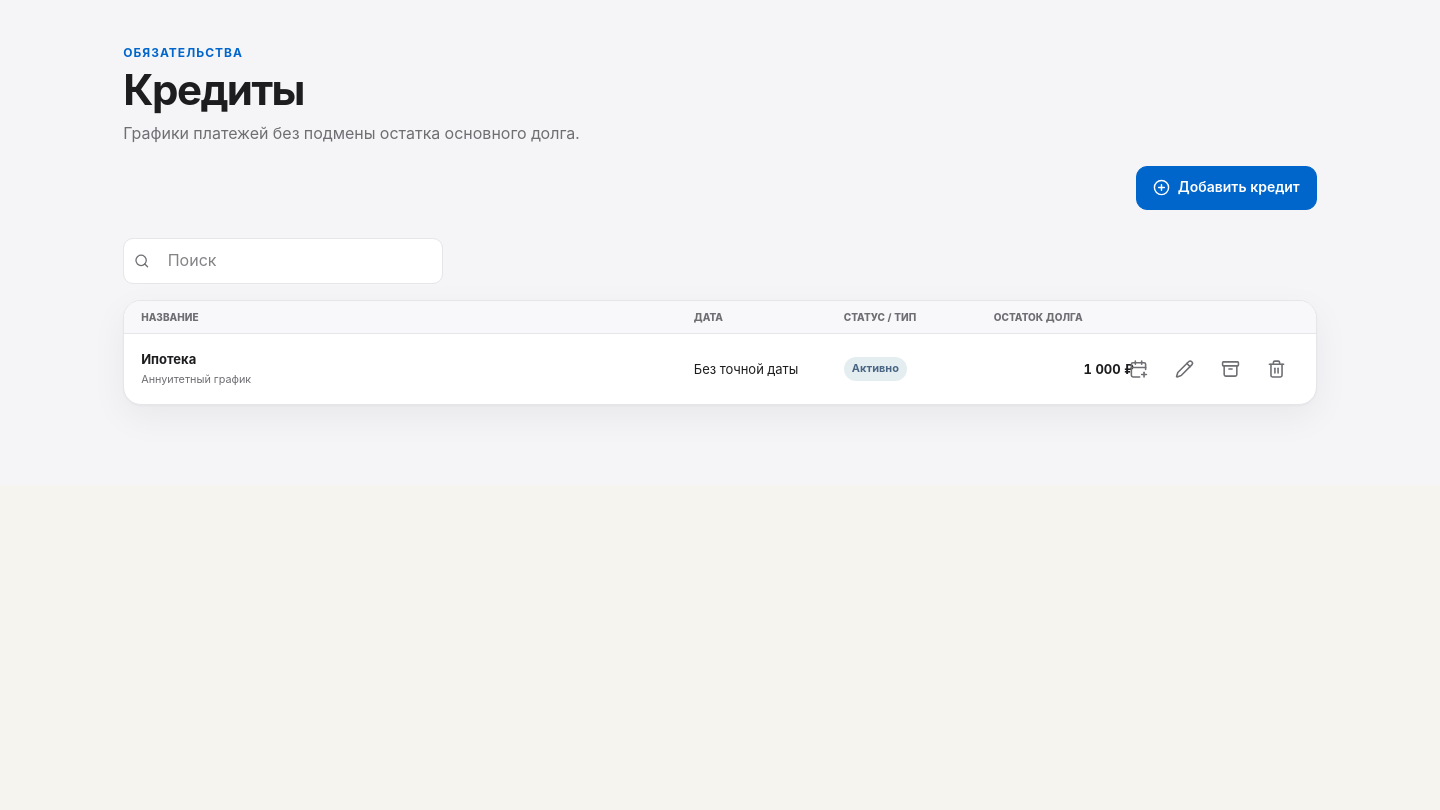
Test: loan schedule integration › shows the annuity breakdown and previews shorter-term prepayment
Check: the text "Ипотека" is shown, box [141,351,196,367]
Click the button named "График кредита Ипотека" at (1139, 369), box [1117,347,1161,391]
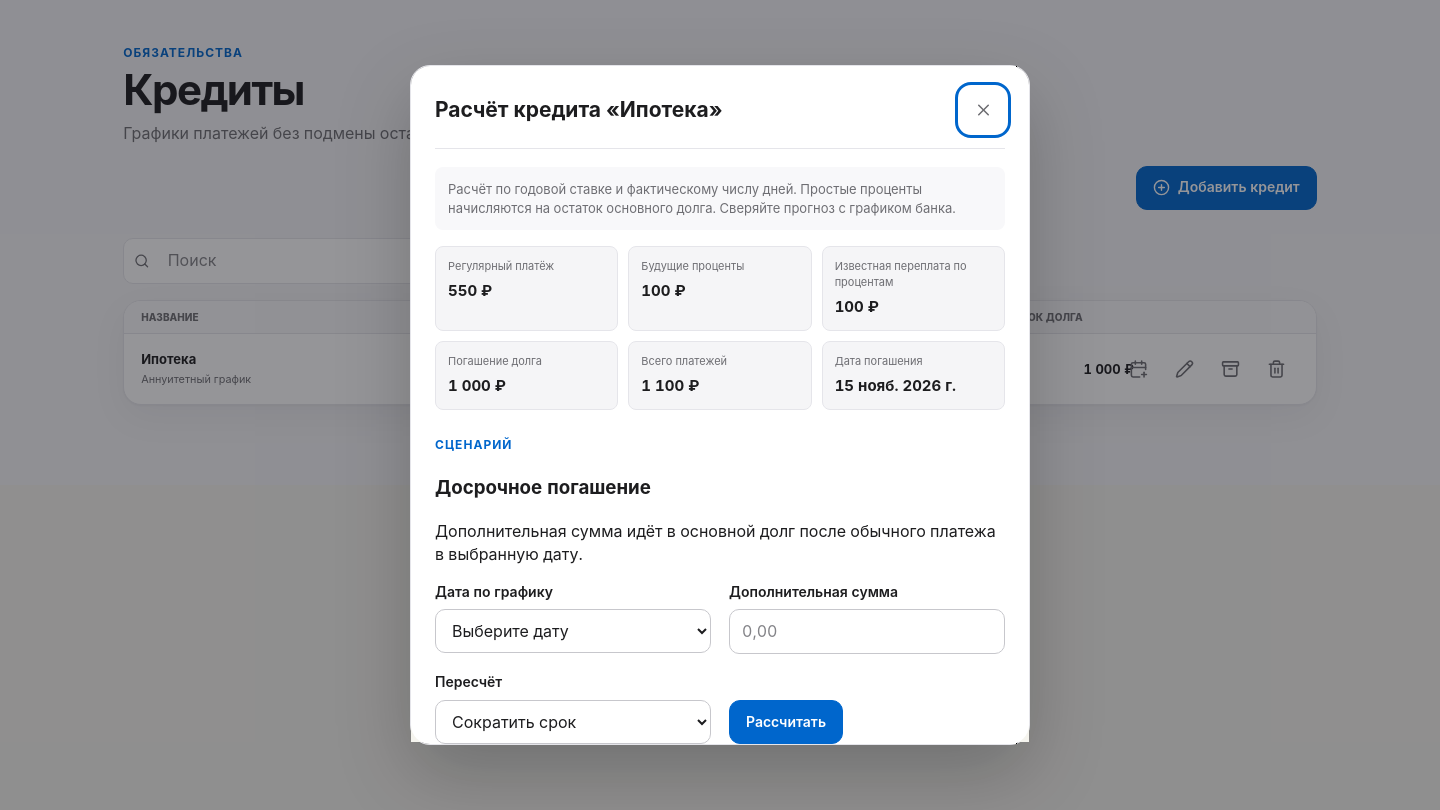
Check: the text "Будущие проценты" is shown, box [641,260,744,274]
Select "15 окт. 2026 г. · осталось 510 ₽" in the dropdown labelled "Дата по графику" at (573, 631), box [435,609,711,653]
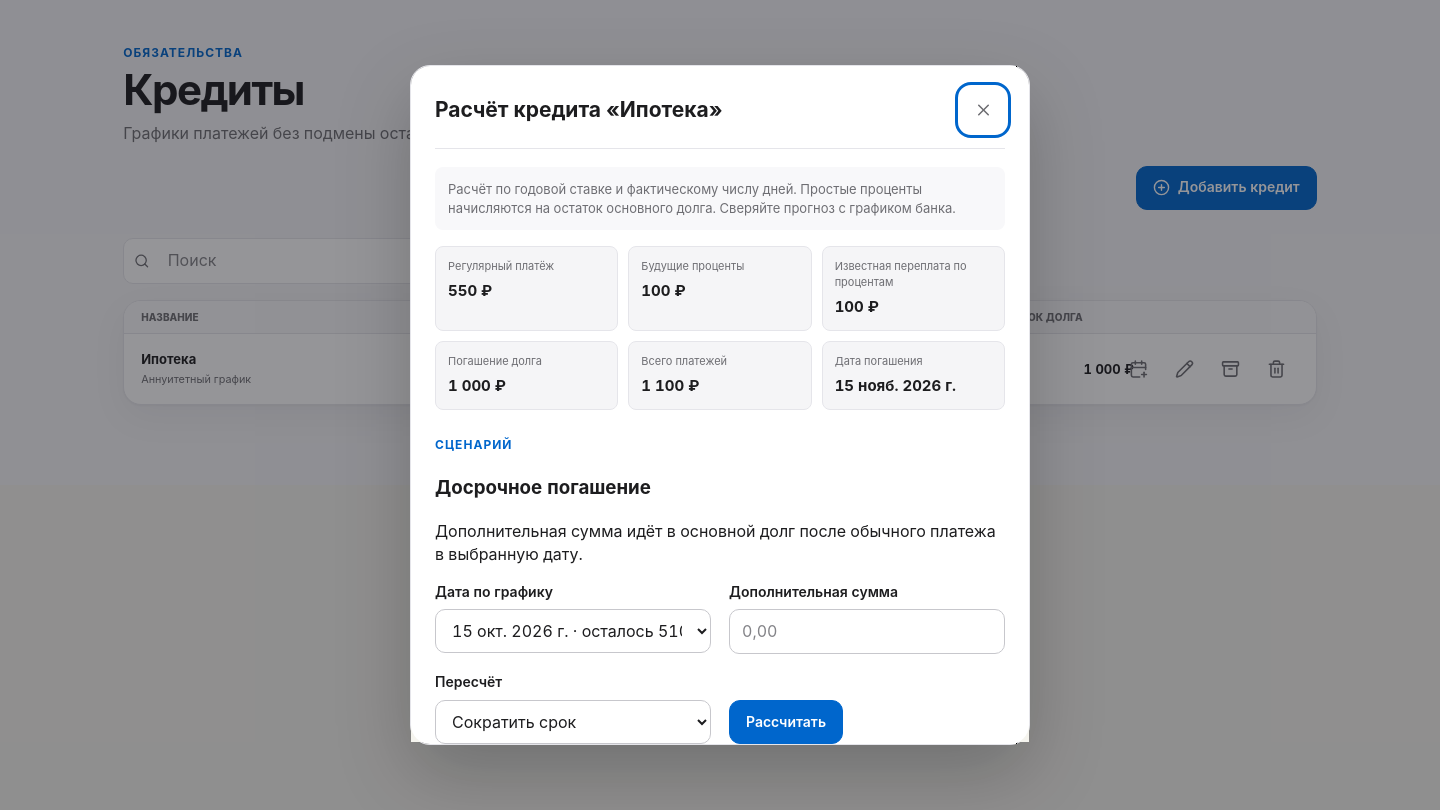
Type "100" into the field labelled "Дополнительная сумма" at (867, 632), box [729,609,1005,654]
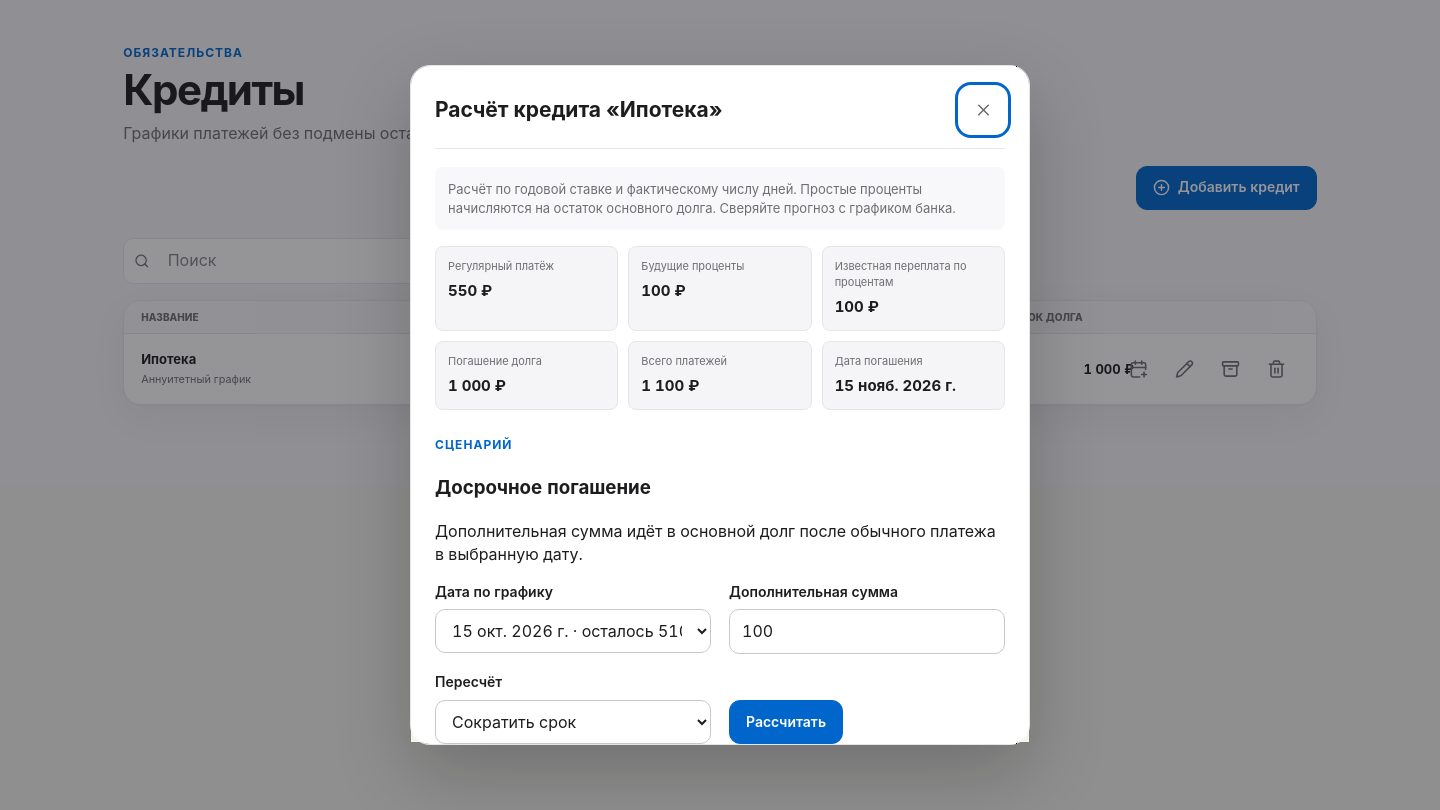
Click the button "Рассчитать" at (786, 722), box [729,700,843,744]
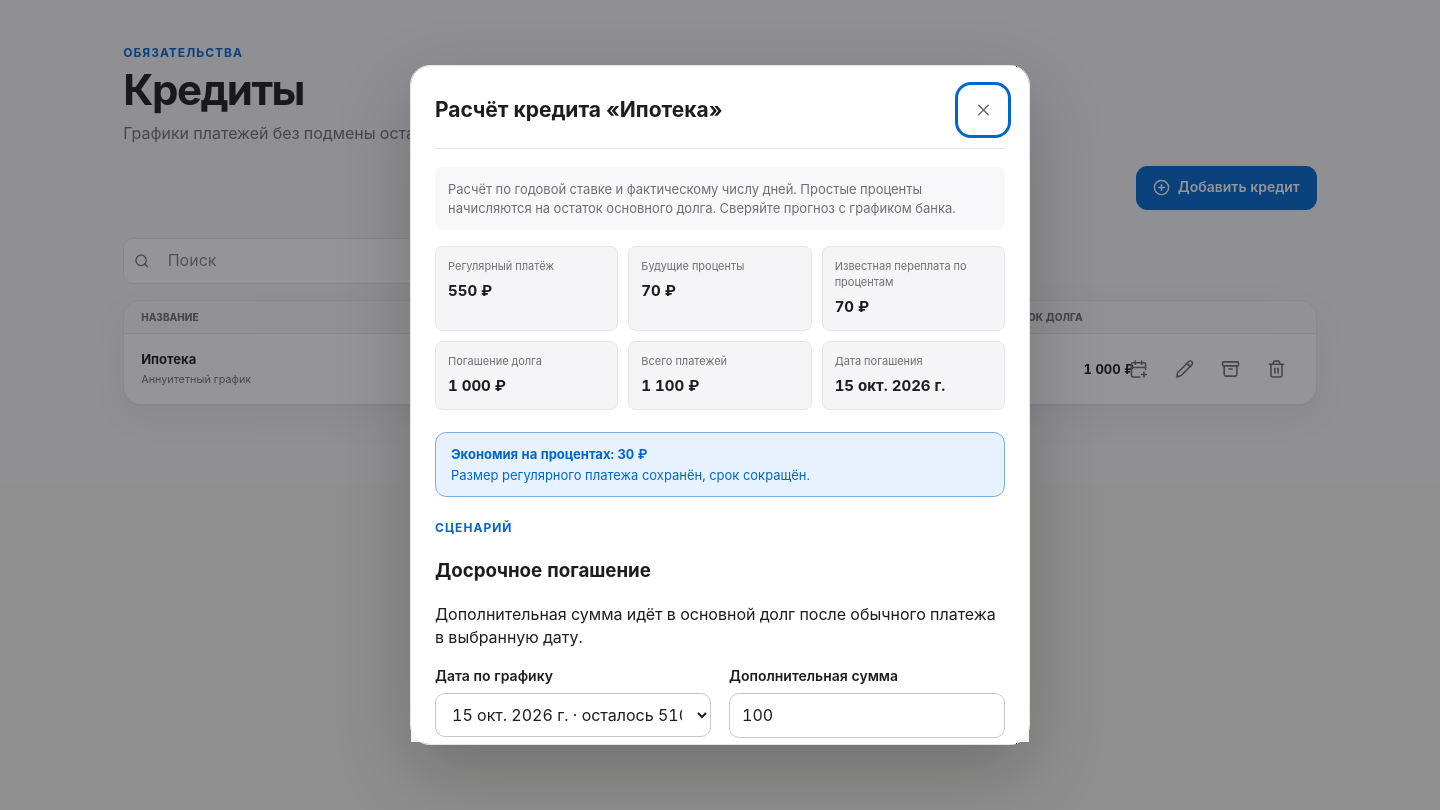
Check: the text "Экономия на процентах: 30 ₽" is shown, box [451,446,647,462]
